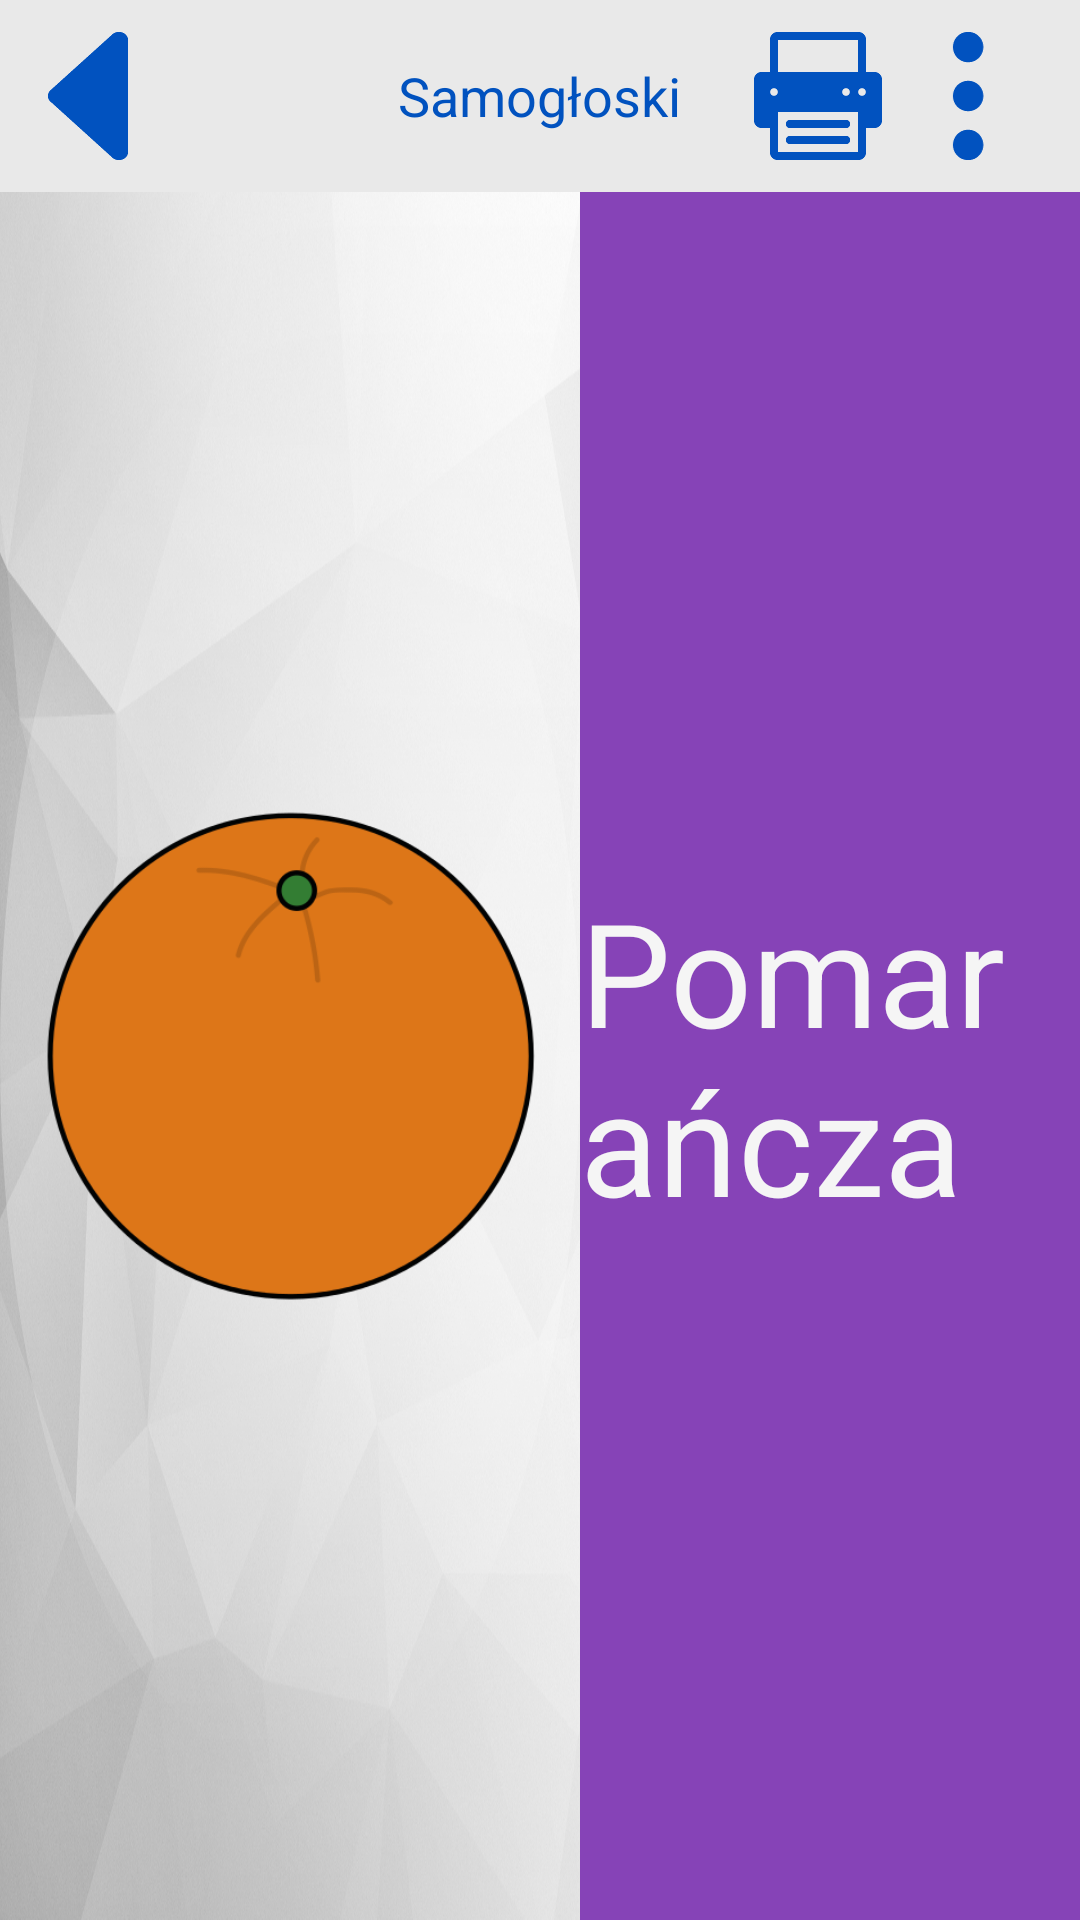

Point at icon controls on the screen. Image size 1080*1920, points as (x=x, y=y).
Przycisk powrotu: (x=88, y=96)
Przycisk wydruku: (x=818, y=96)
